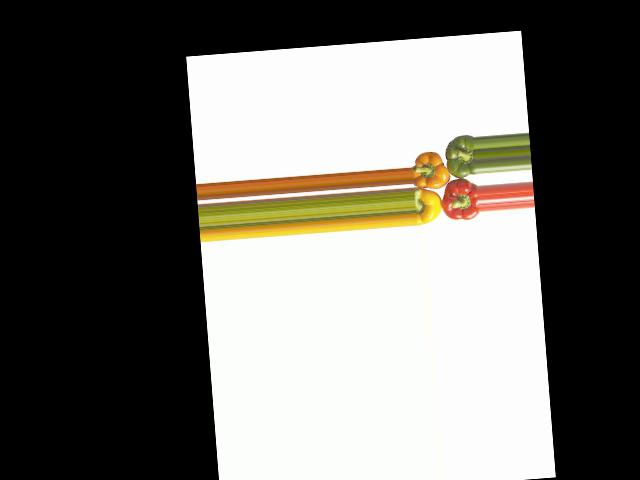bell_pepper: (412, 183, 445, 226)
